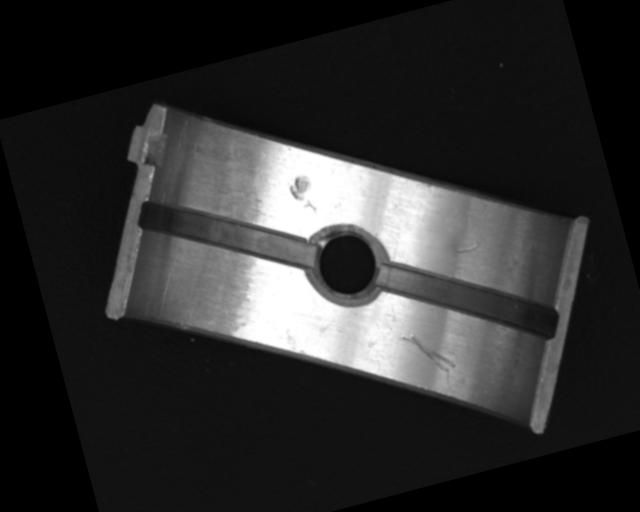bruise: (286, 171, 318, 218)
gap: (376, 225, 564, 376), (136, 164, 316, 307)
hole: (302, 216, 396, 310)
nick: (400, 321, 457, 382), (451, 244, 480, 256)
